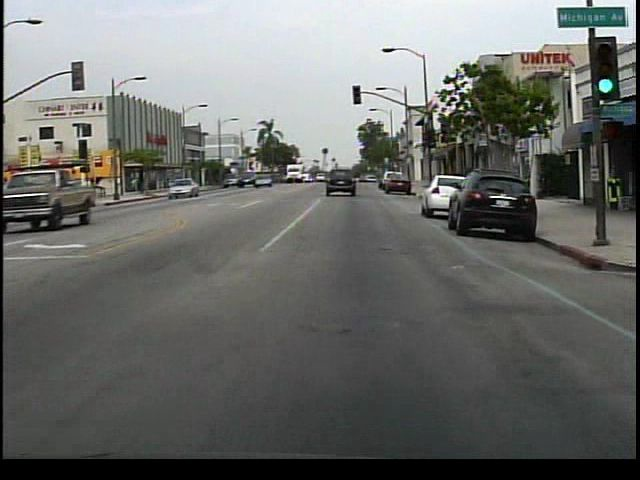person: (81, 180, 101, 208)
